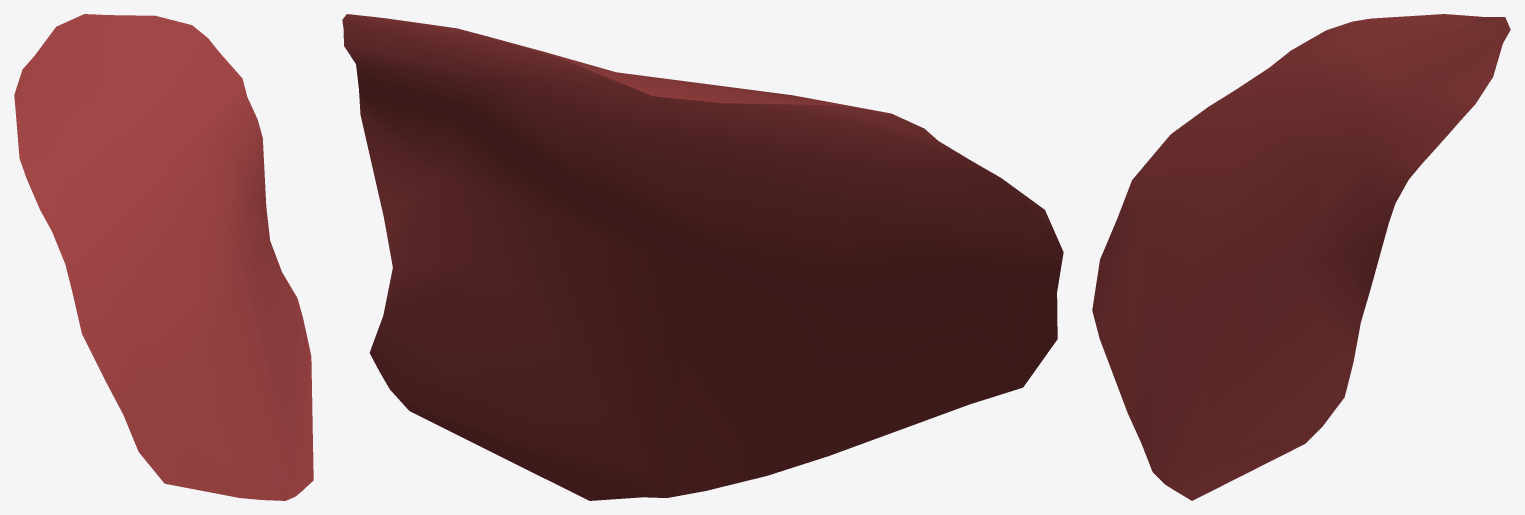
Rendered from sternocleidomastoid-muscle-ol.glb.
3 renders of one model, left to right at view 1: azimuth 30°, elevation 25°; view 2: azimuth 150°, elevation 25°; view 3: azimuth 270°, elevation 25°, orthographic. The views are drawn at different scales.
Visible parts, largest first — view 1: Sternocleidomastoid muscle.ol; view 2: Sternocleidomastoid muscle.ol; view 3: Sternocleidomastoid muscle.ol.
Boxes of the visible parts, left/top/right/bottom form: Sternocleidomastoid muscle.ol: left=14, top=14, right=313, bottom=500; Sternocleidomastoid muscle.ol: left=342, top=14, right=1063, bottom=500; Sternocleidomastoid muscle.ol: left=1092, top=14, right=1510, bottom=500.
Bounding box in the file's own units: 0.015 × 0.0187 × 0.0167.
